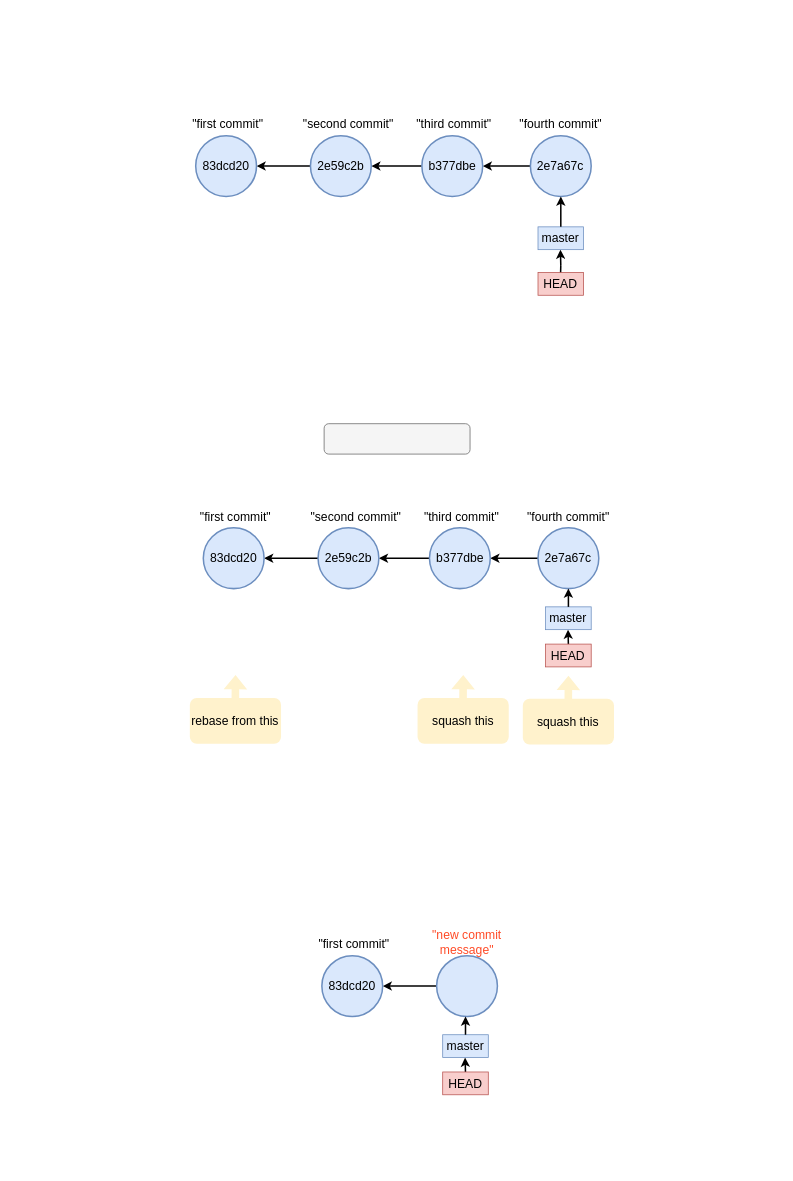
Some shapes in this 793 by 1181 pixel diagram are drawn without their labels. Here are the shapes that lost their labels. From the top down, the centre of each, then its label:
At pixel 396 438: "git rebase -i 83dcd20".
At pixel 466 986: "6ac5ef3".
